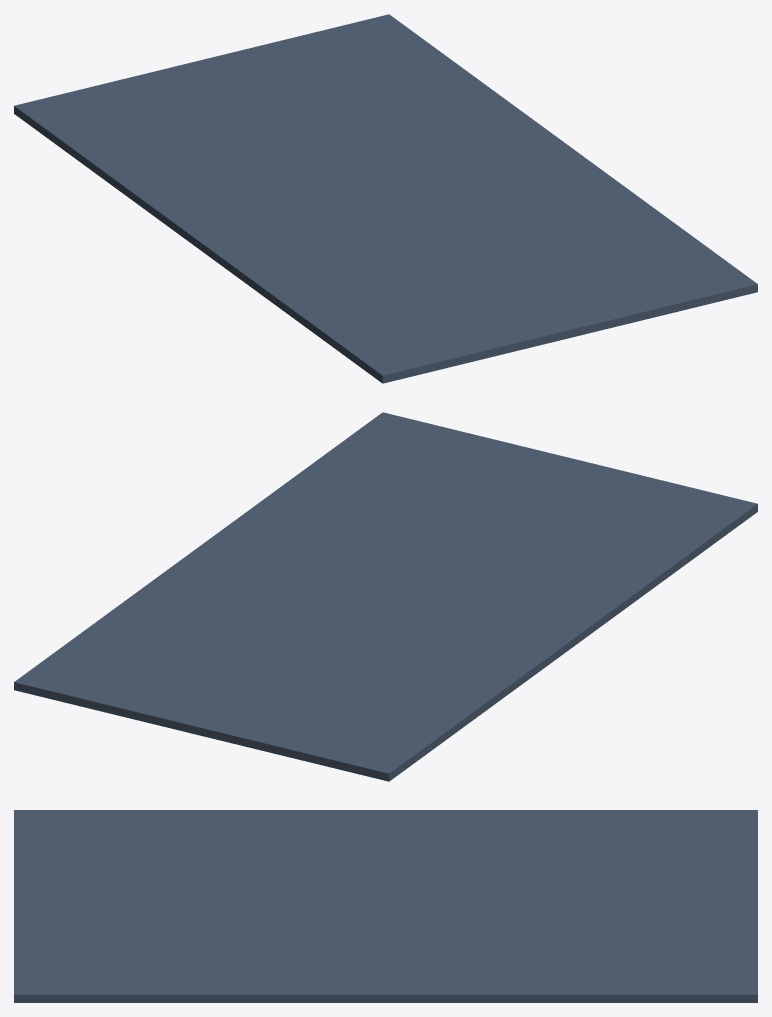
The model's file is floor_003_t_old_access_floor_02.obj.
The picture shows the model from 3 angles, top to bottom: view 1: azimuth 30°, elevation 25°; view 2: azimuth 150°, elevation 25°; view 3: azimuth 270°, elevation 25°; orthographic projection.
Visible parts, largest first — view 1: Floor_003_t_old_access_floor_02; view 2: Floor_003_t_old_access_floor_02; view 3: Floor_003_t_old_access_floor_02.
Part boxes in pixels (x1=…): Floor_003_t_old_access_floor_02: x1=14, y1=14, x2=757, y2=383; Floor_003_t_old_access_floor_02: x1=14, y1=412, x2=757, y2=781; Floor_003_t_old_access_floor_02: x1=14, y1=810, x2=757, y2=1002.
Bounding box in the file's own units: 9.81 × 0.2 × 16.7.
